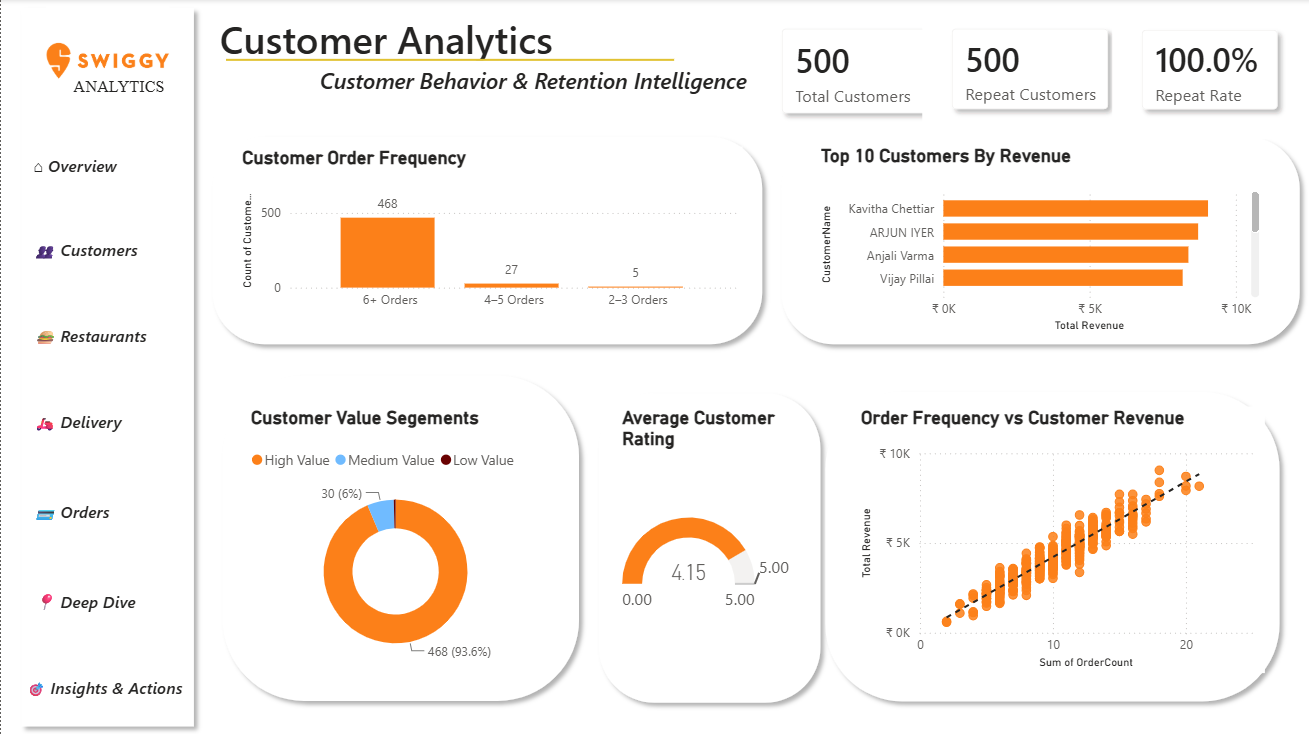

This screenshot's page, from the dashboard's own definition file:
{"tool":"powerbi","page":{"name":"Customer Analaytics","canvas":[1280,720],"ordinal":1},"visuals":[{"type":"shape","box":[576.4,376.4,234.7,320.8],"z":0},{"type":"shape","box":[797.2,375,462.5,320.8],"z":1000},{"type":"shape","box":[208.3,359.7,366.7,336.1],"z":2000},{"type":"shape","box":[754.2,126.4,525,220.8],"z":3000},{"type":"shape","box":[198.6,126.4,555.6,220.8],"z":4000},{"type":"textbox","box":[208.6,8.6,355.7,64.3],"z":5000},{"type":"textbox","box":[307.1,60,438.6,44.3],"z":6000},{"type":"shape","box":[11,0,186.6,720.4],"z":7000},{"type":"image","box":[0,0,208.6,120.8],"z":8000},{"type":"textbox","box":[65.9,72.7,101.5,35.7],"z":9000},{"type":"textbox","box":[27.4,146.8,116.6,31.6],"z":10000},{"type":"textbox","box":[27.4,229.2,119.4,31.6],"z":11000},{"type":"textbox","box":[27.4,312.9,123.5,34.3],"z":12000},{"type":"textbox","box":[27.4,397.9,105.7,37],"z":13000},{"type":"textbox","box":[27.4,485.8,98.8,38.4],"z":14000},{"type":"textbox","box":[27.4,573.6,115.3,38.4],"z":15000},{"type":"shape","box":[220,45.7,438.6,28.6],"z":16000},{"type":"cardVisual","fields":{"Data":["dimcustomer.Total Customers"]},"box":[734.7,0,201.4,141.7],"z":17000},{"type":"cardVisual","fields":{"Data":["dimcustomer.Repeat Customers"]},"box":[901.4,0,211.1,137.5],"z":18000},{"type":"cardVisual","fields":{"Data":["dimcustomer.Repeat Rate"]},"box":[1087.5,1.4,191.7,136.1],"z":19000},{"type":"columnChart","title":"Customer Order Frequency","fields":{"Category":["dimcustomer.Order Frequency"],"Y":["CountNonNull(dimcustomer.CustomerID)"]},"box":[230.6,144.4,494.4,168.1],"z":20000},{"type":"clusteredBarChart","title":"Top 10 Customers By Revenue","fields":{"Y":["factorders.Total Revenue"],"Category":["dimcustomer.CustomerName"]},"box":[797.2,143.1,438.9,187.5],"z":21000},{"type":"donutChart","title":"Customer Value Segements","fields":{"Category":["dimcustomer.Customer Value Segment"],"Y":["CountNonNull(dimcustomer.CustomerID)"]},"box":[240.3,398.6,293.1,261.1],"z":22000},{"type":"scatterChart","title":"Order Frequency vs Customer Revenue","fields":{"X":["Sum(dimcustomer.OrderCount)"],"Y":["factorders.Total Revenue"],"Category":["dimcustomer.CustomerID"]},"box":[836.1,398.6,400,261.1],"z":23000},{"type":"gauge","fields":{"Y":["factorders.Average Customer Rating"]},"box":[602.8,398.6,179.2,261.1],"z":24000},{"type":"textbox","box":[20.6,657.3,166,32.9],"z":25000},{"type":"actionButton","box":[26.1,146.8,100,40],"z":25001},{"type":"actionButton","box":[32.9,307.4,118,39.8],"z":25002},{"type":"actionButton","box":[26.1,395.2,100,40],"z":25003},{"type":"actionButton","box":[26.1,484.4,100,40],"z":25004},{"type":"actionButton","box":[31.6,572.2,112.5,39.8],"z":25005},{"type":"actionButton","box":[20.6,653.2,166,39.8],"z":25006}]}

Visuals, with their boxes on the page's 1280x720 design canvas (x1, y1, x2, y2). These are canvas units, not pixel positions in the 1309x734 screenshot, which may show the page scaled, cropped or inside an application window:
shape: <bbox>576, 376, 811, 697</bbox>
shape: <bbox>797, 375, 1260, 696</bbox>
shape: <bbox>208, 360, 575, 696</bbox>
shape: <bbox>754, 126, 1279, 347</bbox>
shape: <bbox>199, 126, 754, 347</bbox>
textbox: <bbox>209, 9, 564, 73</bbox>
textbox: <bbox>307, 60, 746, 104</bbox>
shape: <bbox>11, 0, 198, 720</bbox>
image: <bbox>0, 0, 209, 121</bbox>
textbox: <bbox>66, 73, 167, 108</bbox>
textbox: <bbox>27, 147, 144, 178</bbox>
textbox: <bbox>27, 229, 147, 261</bbox>
textbox: <bbox>27, 313, 151, 347</bbox>
textbox: <bbox>27, 398, 133, 435</bbox>
textbox: <bbox>27, 486, 126, 524</bbox>
textbox: <bbox>27, 574, 143, 612</bbox>
shape: <bbox>220, 46, 659, 74</bbox>
cardVisual - dimcustomer.Total Customers: <bbox>735, 0, 936, 142</bbox>
cardVisual - dimcustomer.Repeat Customers: <bbox>901, 0, 1112, 138</bbox>
cardVisual - dimcustomer.Repeat Rate: <bbox>1088, 1, 1279, 138</bbox>
"Customer Order Frequency" columnChart: <bbox>231, 144, 725, 312</bbox>
"Top 10 Customers By Revenue" clusteredBarChart: <bbox>797, 143, 1236, 331</bbox>
"Customer Value Segements" donutChart: <bbox>240, 399, 533, 660</bbox>
"Order Frequency vs Customer Revenue" scatterChart: <bbox>836, 399, 1236, 660</bbox>
gauge - factorders.Average Customer Rating: <bbox>603, 399, 782, 660</bbox>
textbox: <bbox>21, 657, 187, 690</bbox>
actionButton: <bbox>26, 147, 126, 187</bbox>
actionButton: <bbox>33, 307, 151, 347</bbox>
actionButton: <bbox>26, 395, 126, 435</bbox>
actionButton: <bbox>26, 484, 126, 524</bbox>
actionButton: <bbox>32, 572, 144, 612</bbox>
actionButton: <bbox>21, 653, 187, 693</bbox>
